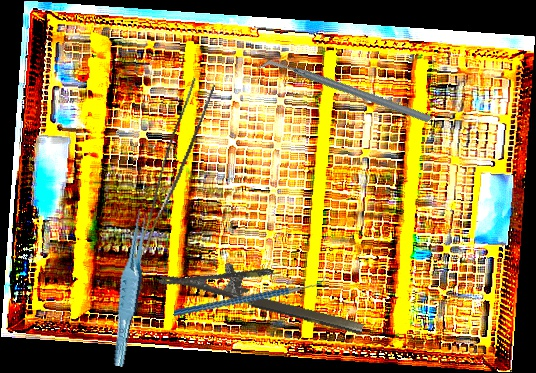Chopper: (256, 5, 434, 179), (173, 253, 328, 336)
Needle Holder: (158, 242, 372, 337)
Tissue Forceps: (133, 75, 216, 273), (101, 206, 161, 368)
